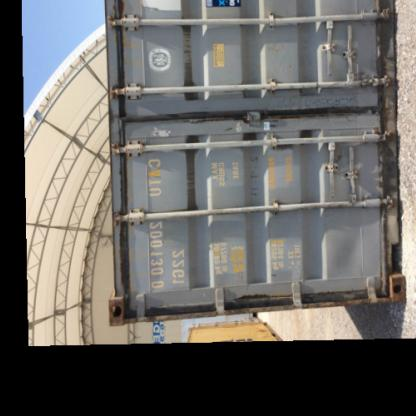Damage: (143, 286, 273, 322), (258, 92, 362, 134), (292, 277, 378, 312), (236, 146, 266, 212), (109, 1, 129, 83), (114, 212, 133, 292), (174, 16, 198, 76)
